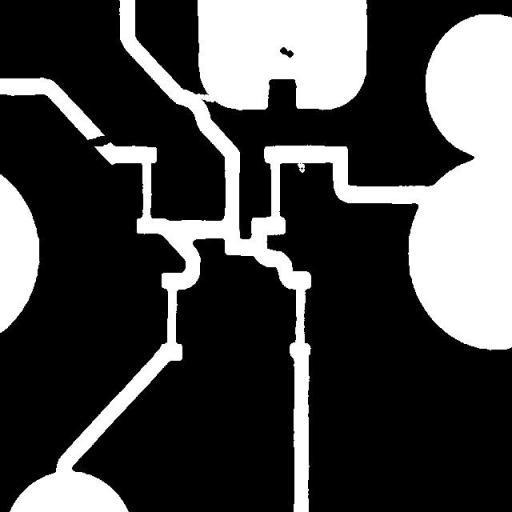copper: (272, 39, 301, 65)
mousebite: (290, 155, 312, 180)
open: (188, 86, 222, 110)
short: (78, 127, 120, 154)
